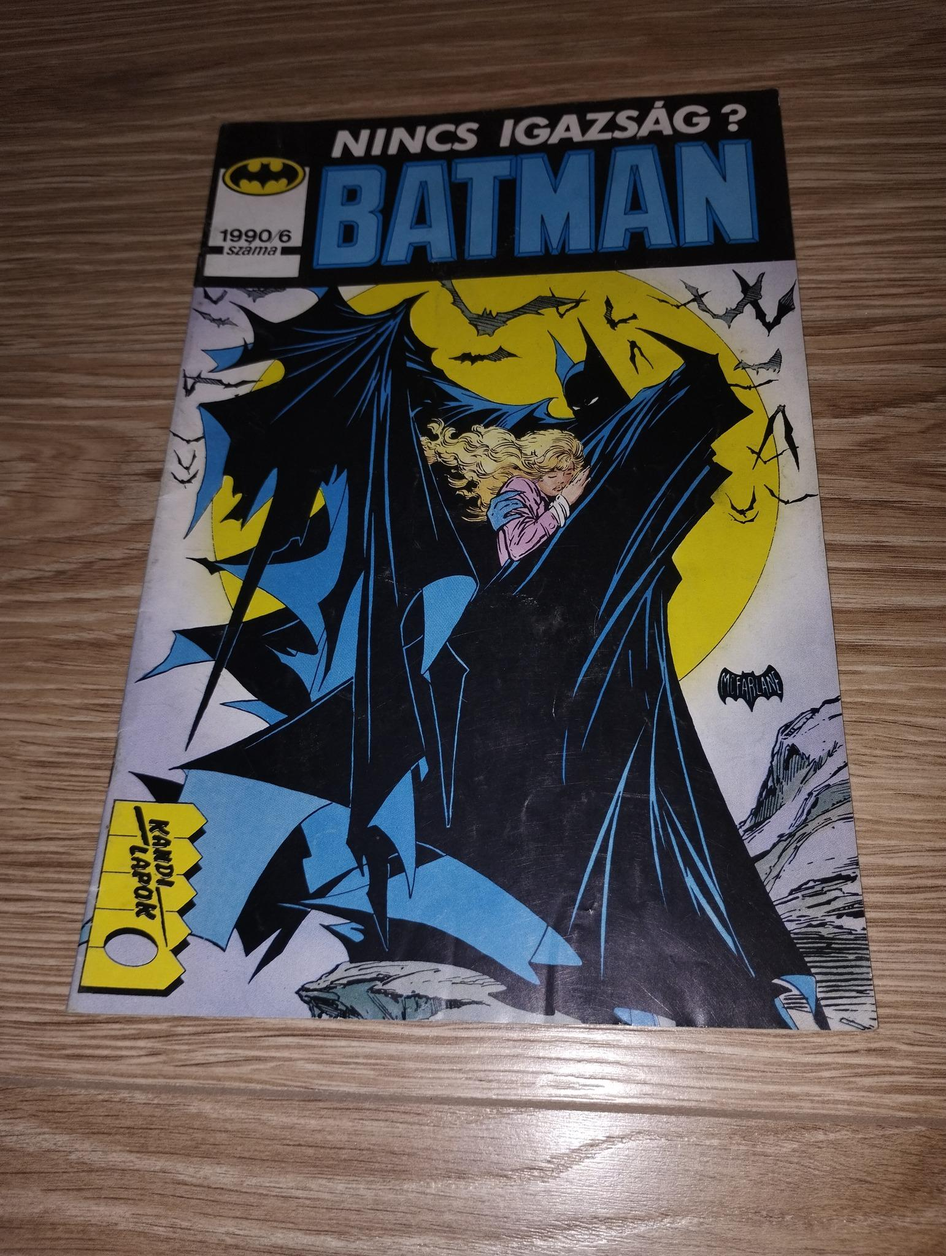comic: (70, 78, 892, 1029)
